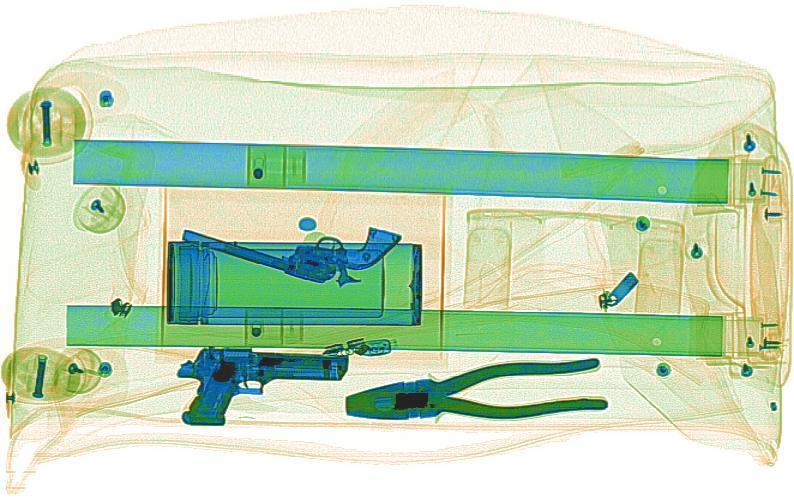Gun: (173, 178, 406, 295), (172, 344, 349, 430)
Pliers: (335, 354, 611, 432)
